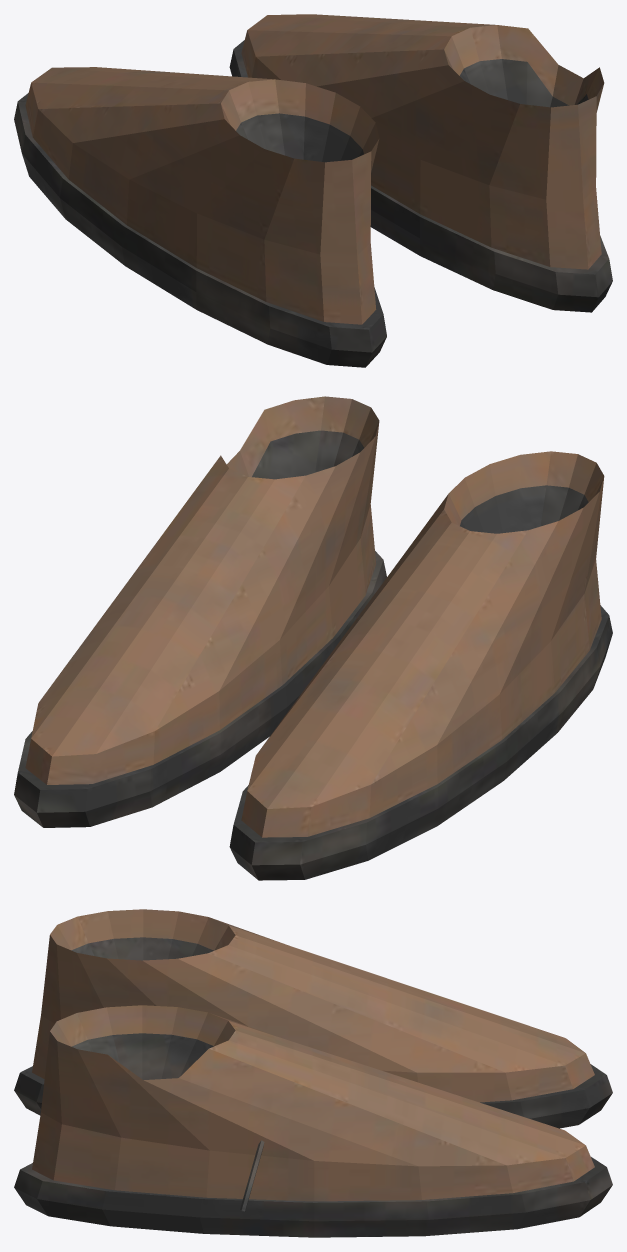
Rendered from D10_old_shoes_pair_v4.glb.
The picture shows the model from 3 angles, top to bottom: view 1: azimuth 30°, elevation 25°; view 2: azimuth 150°, elevation 25°; view 3: azimuth 270°, elevation 25°; orthographic projection. The views are drawn at different scales.
Parts seen in each view (by area): view 1: Cracked layered sole; view 2: Cracked layered sole; view 3: Cracked layered sole.
Boxes of the visible parts, x1,y1,x2,y2 form: Cracked layered sole: [14, 14, 612, 367]; Cracked layered sole: [14, 396, 612, 880]; Cracked layered sole: [14, 909, 612, 1237].
Bounding box in the file's own units: 0.2102 × 0.096 × 0.3.
Materials: 4 (4 with a texture image).
